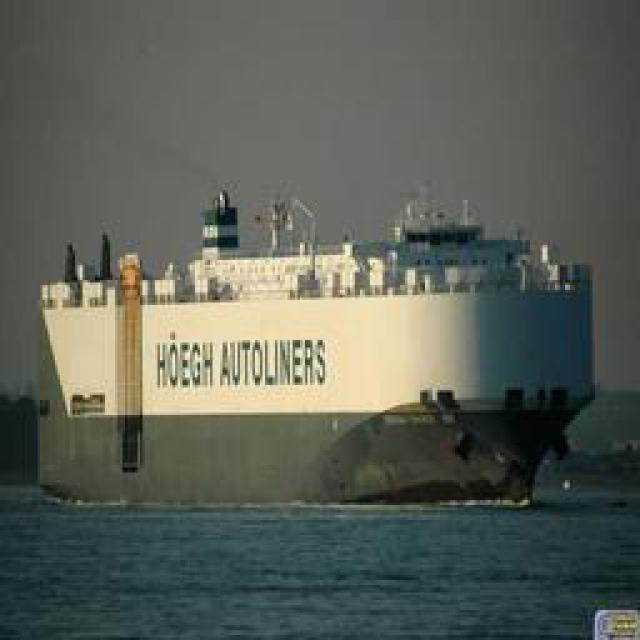Ship: (24, 162, 606, 520)
